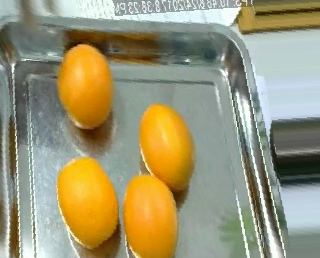Orange: (57, 159, 119, 249), (138, 103, 193, 192), (58, 43, 114, 128), (123, 174, 180, 257)
